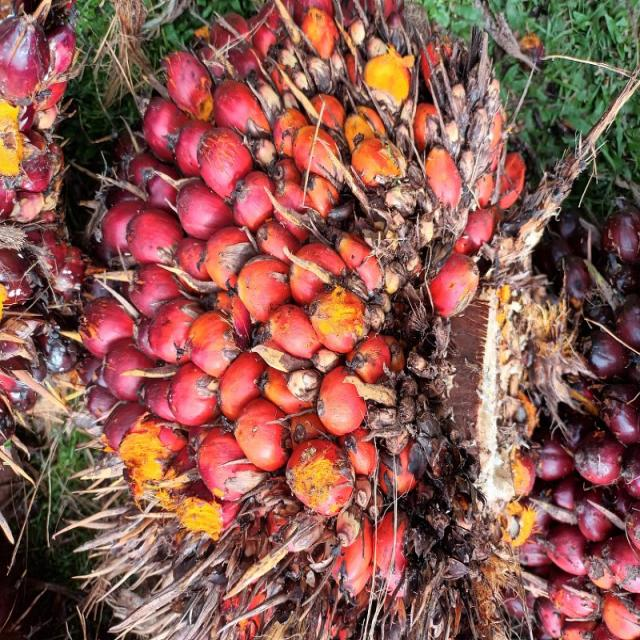fraksi 3: (117, 49, 585, 635)
